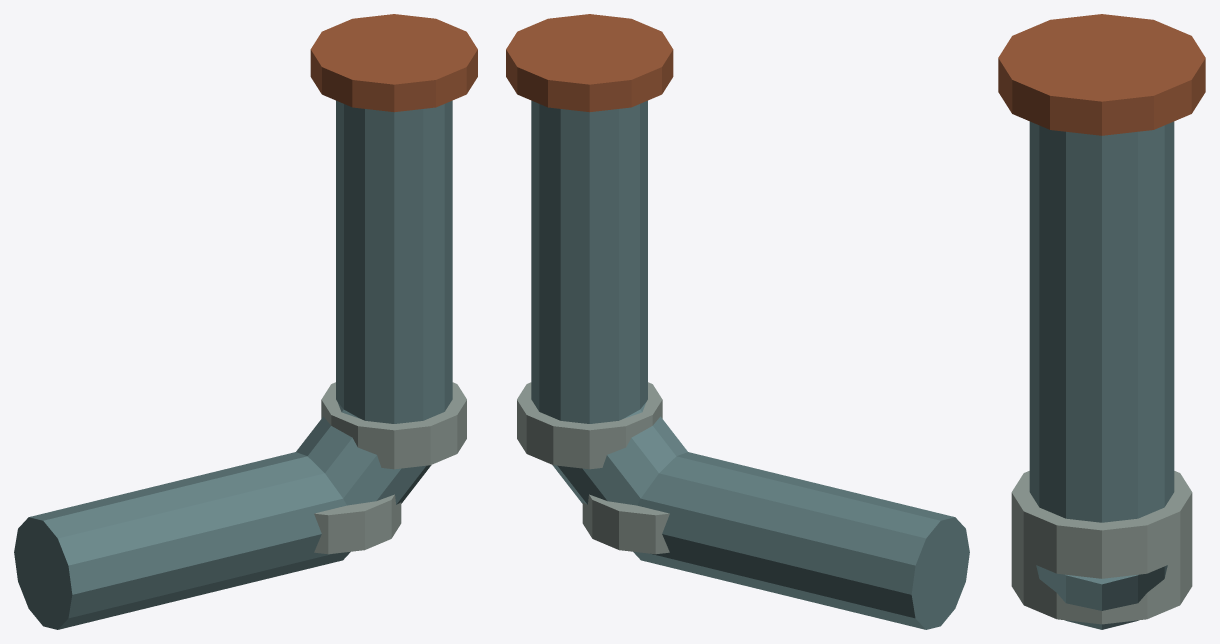
The model's file is Pipe_Elbow.glb.
3 renders of one model, left to right at view 1: azimuth 30°, elevation 25°; view 2: azimuth 150°, elevation 25°; view 3: azimuth 270°, elevation 25°, orthographic. The views are drawn at different scales.
Visible parts, largest first — view 1: Pipe_Elbow; view 2: Pipe_Elbow; view 3: Pipe_Elbow.
Boxes of the visible parts, x1,y1,x2,y2 form: Pipe_Elbow: (14,14,477,629); Pipe_Elbow: (506,14,969,629); Pipe_Elbow: (998,14,1205,629).
Size of the model in its own units: 1.93 by 2.14 by 0.66.
